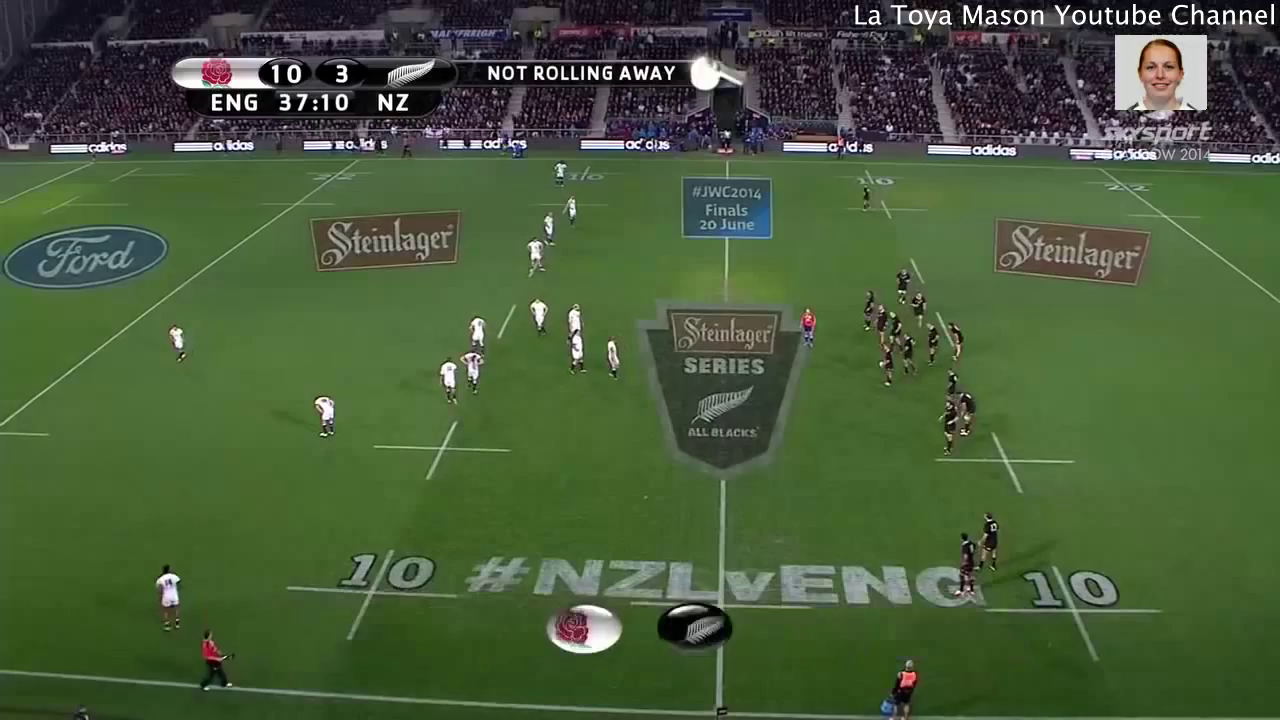10_metre: (983, 561, 1176, 668), (278, 542, 467, 645), (926, 421, 1083, 500), (364, 418, 521, 485), (842, 193, 933, 224), (525, 192, 614, 217), (543, 162, 627, 185), (831, 167, 912, 189)
ball: (877, 357, 887, 371)
player: (195, 624, 243, 700), (970, 506, 1009, 583), (152, 562, 190, 639), (947, 527, 983, 605), (306, 391, 345, 446), (936, 396, 966, 457), (455, 347, 486, 397), (437, 352, 464, 405), (523, 293, 553, 340), (567, 324, 593, 378), (165, 320, 193, 369), (523, 233, 551, 282), (918, 315, 943, 368), (873, 338, 899, 388), (796, 303, 821, 352), (957, 385, 977, 442), (946, 319, 969, 367), (603, 332, 623, 385), (891, 265, 913, 312), (898, 332, 920, 379), (882, 307, 906, 350), (907, 284, 929, 330), (465, 312, 489, 353), (562, 302, 586, 342), (858, 289, 878, 334), (541, 205, 560, 250), (941, 365, 963, 402), (871, 301, 889, 345), (549, 156, 567, 190), (563, 194, 579, 226)
